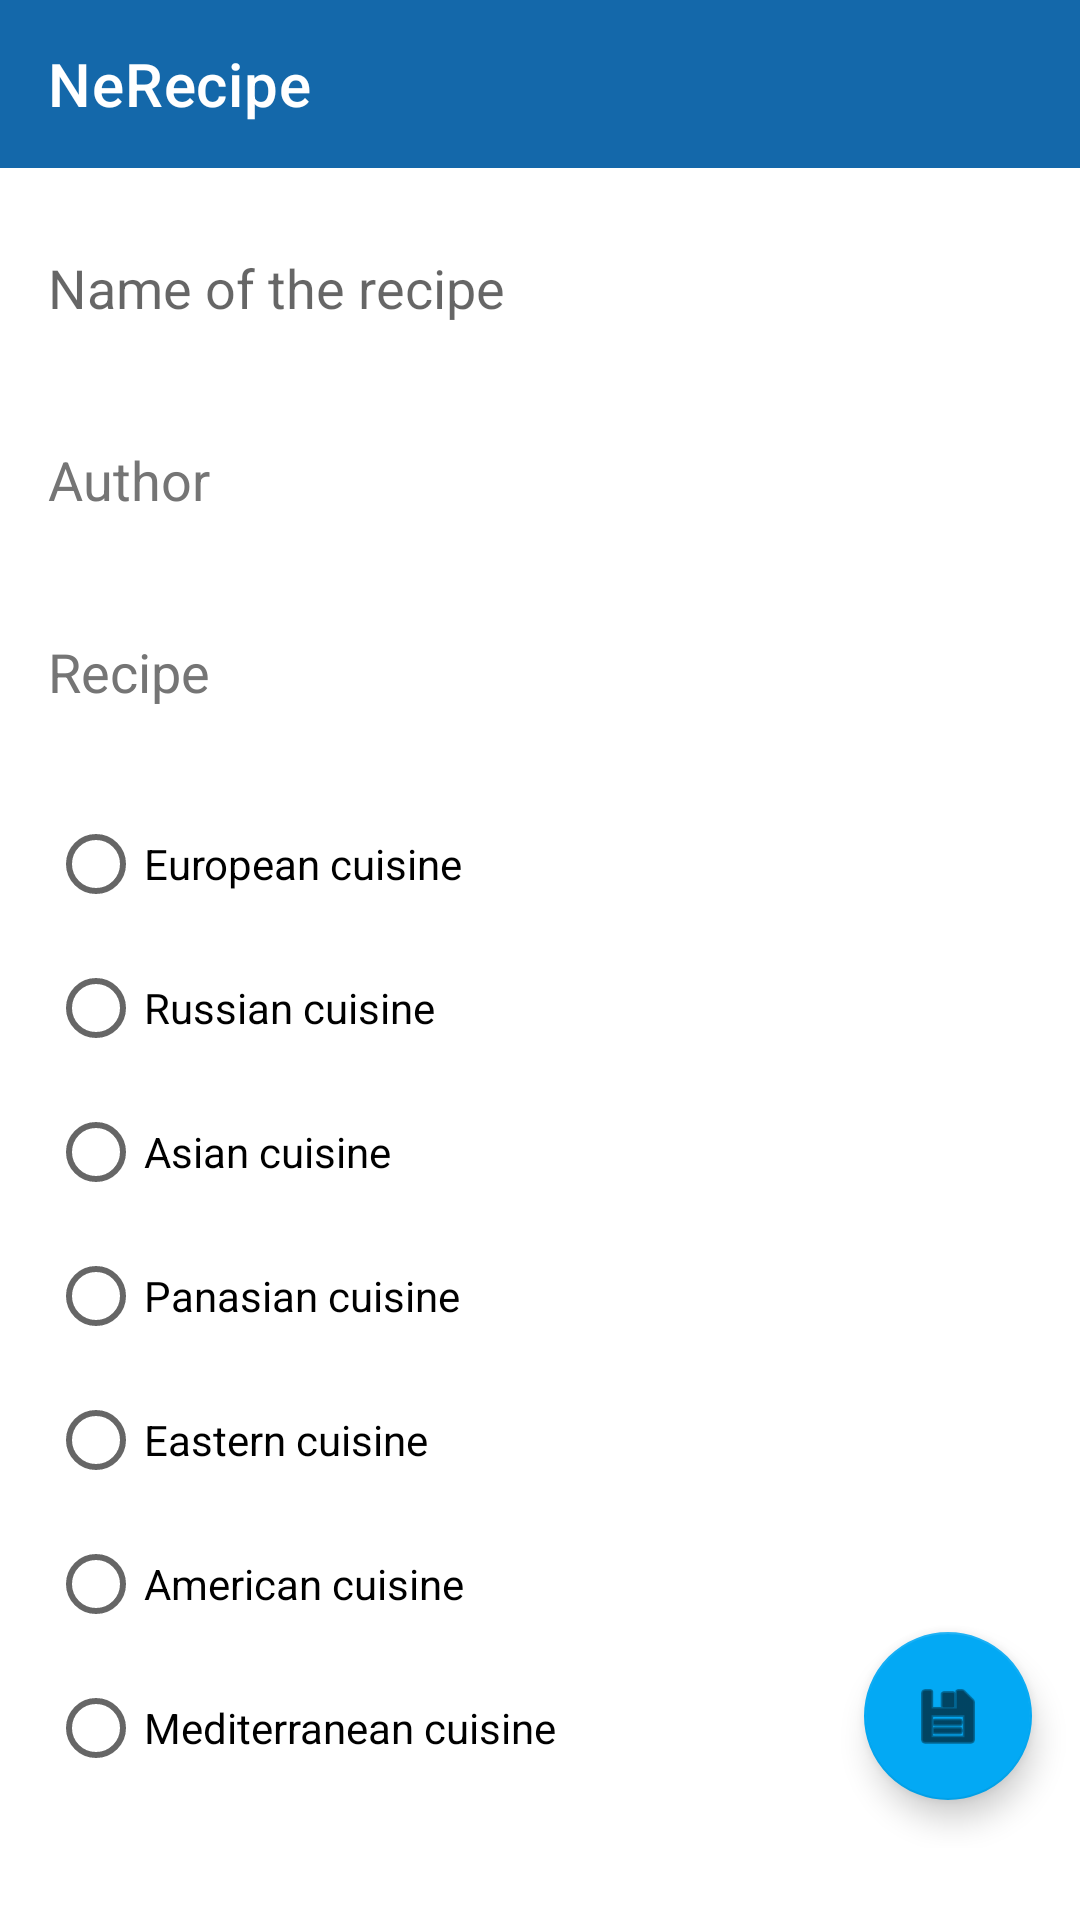

Icon click points for this 1080 × 1920 phone screenshot, format [x,y]:
Save: [948,1716]
